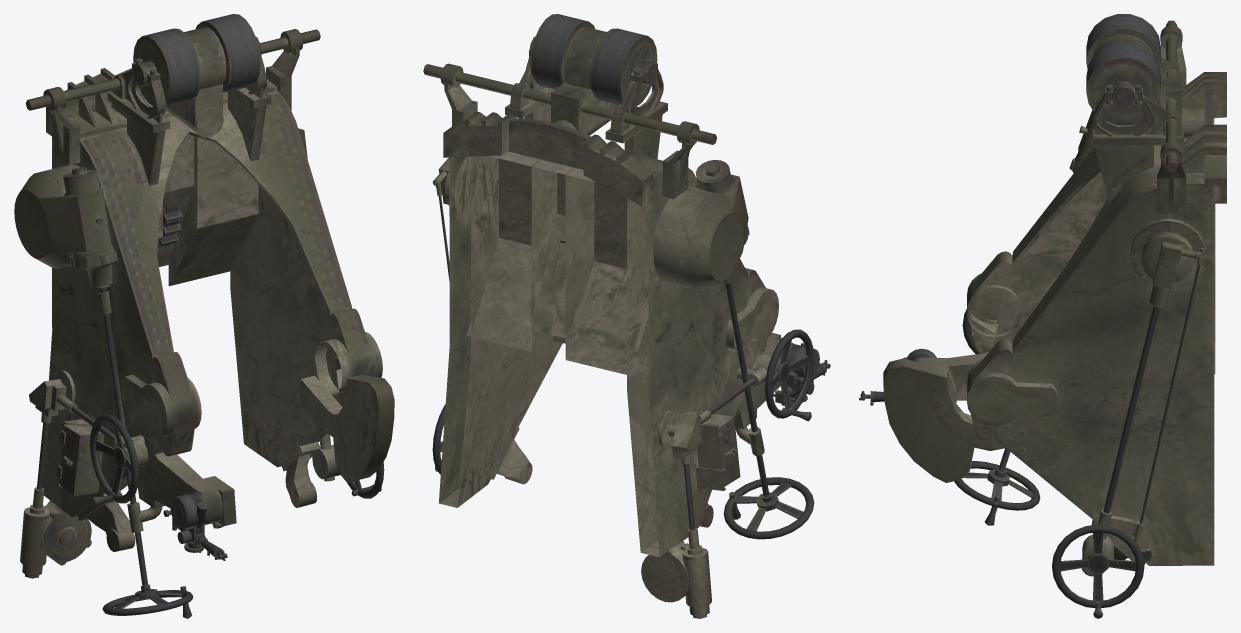
The model's file is Turret_01.glb.
The picture shows the model from 3 angles, left to right: view 1: azimuth 30°, elevation 25°; view 2: azimuth 150°, elevation 25°; view 3: azimuth 270°, elevation 25°; orthographic projection.
Visible parts, largest first — view 1: set_0_group_0; view 2: set_0_group_0; view 3: set_0_group_0.
Boxes of the visible parts, left/top/right/bottom form: set_0_group_0: left=14, top=14, right=394, bottom=618; set_0_group_0: left=423, top=14, right=830, bottom=618; set_0_group_0: left=859, top=14, right=1226, bottom=618.
Size of the model in its own units: 1.58 by 2.43 by 1.5.
Materials: 1 (1 with a texture image).
